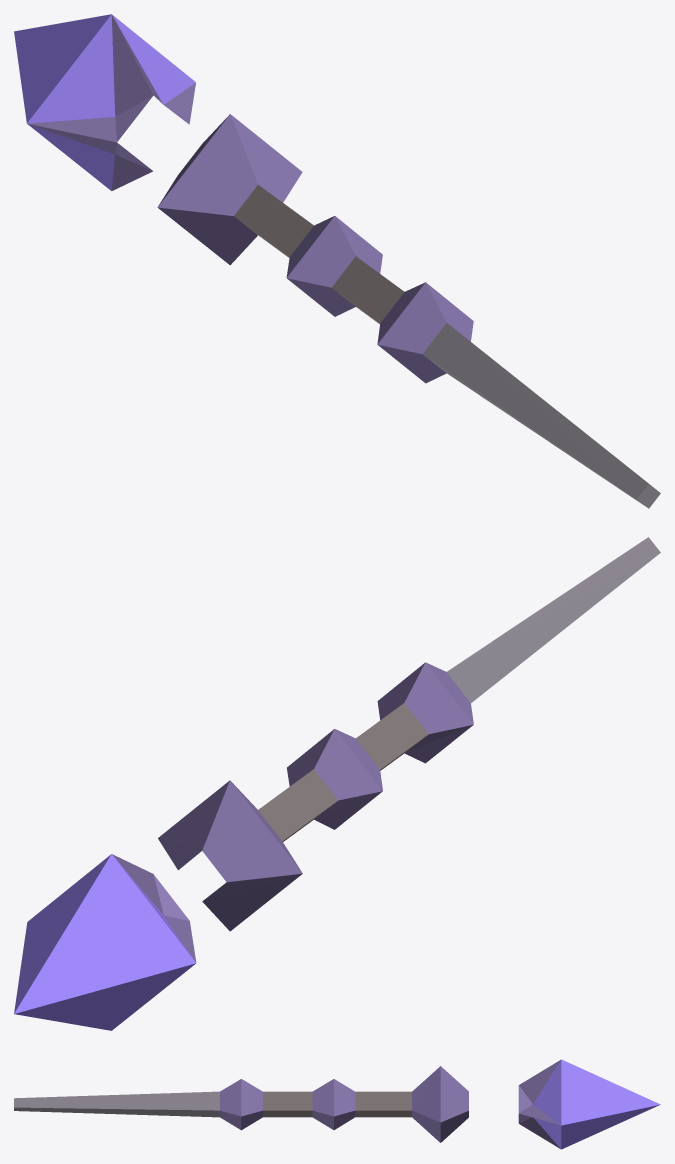
File: player_kodai_wand.glb
3 renders of one model, top to bottom at view 1: azimuth 30°, elevation 25°; view 2: azimuth 150°, elevation 25°; view 3: azimuth 270°, elevation 25°, orthographic. The views are drawn at different scales.
Bounding box in the file's own units: 14 × 14 × 90.99.
Materials: 1 (1 with a texture image).
